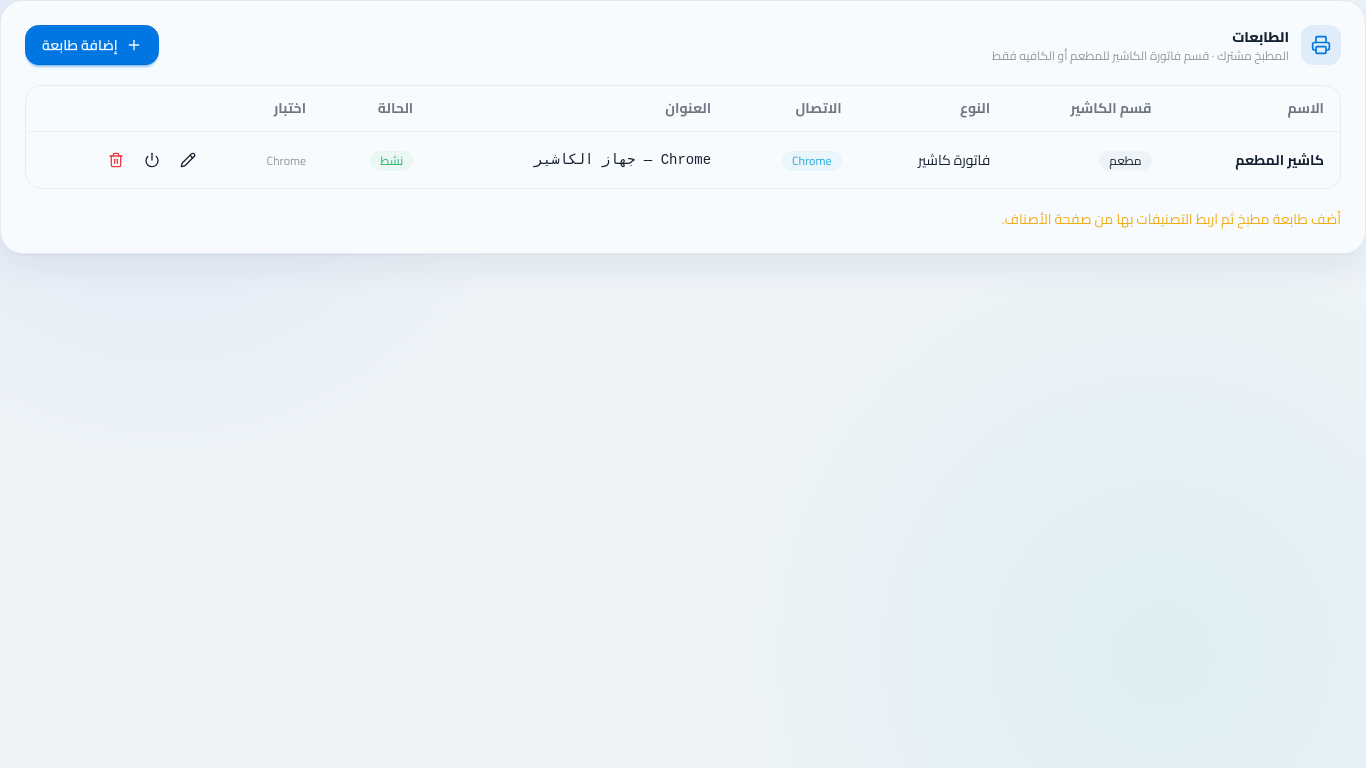
Test: PrintersAdmin auto print › lists the installed Windows printers in the local printer modal
Click the button titled "تعديل". click: (188, 160)
box: [172,144,204,176]
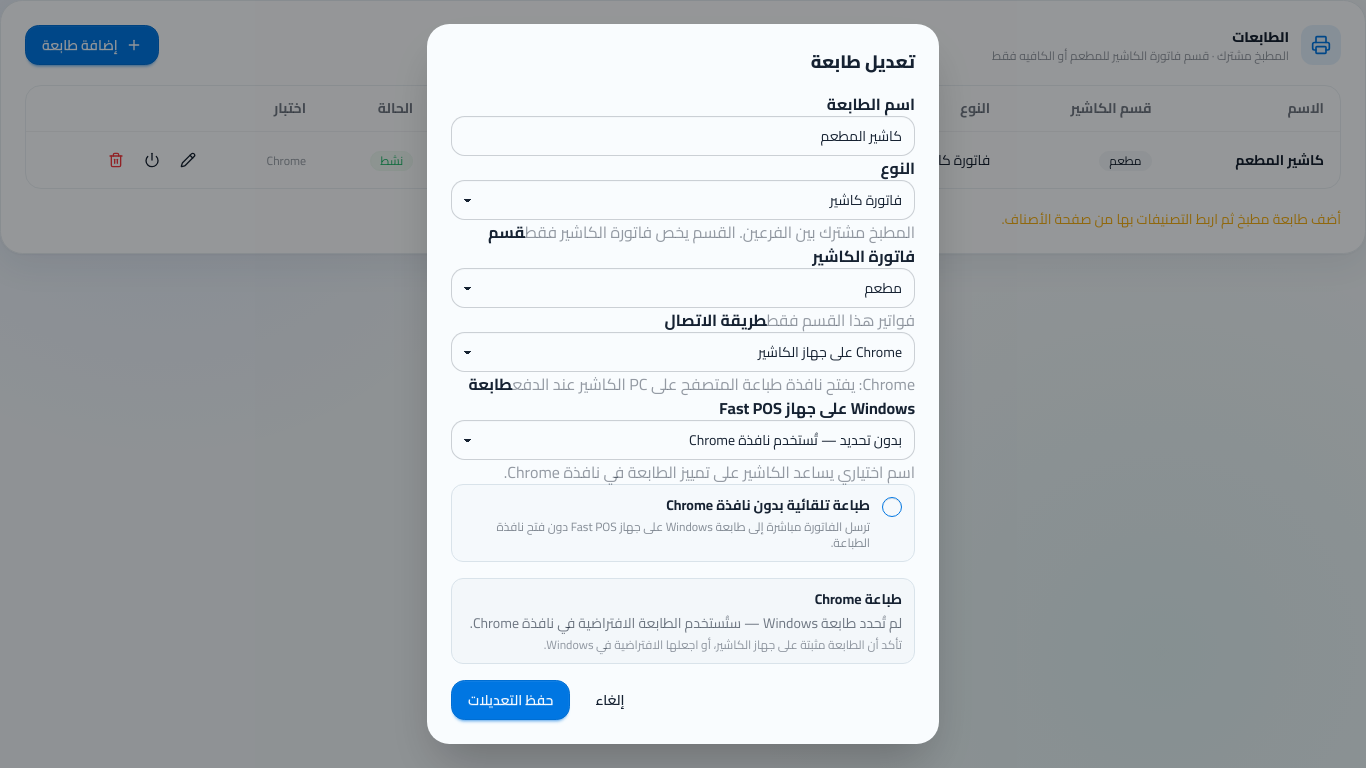
Expected: the dropdown named "host" is shown, [451,420,915,460]
